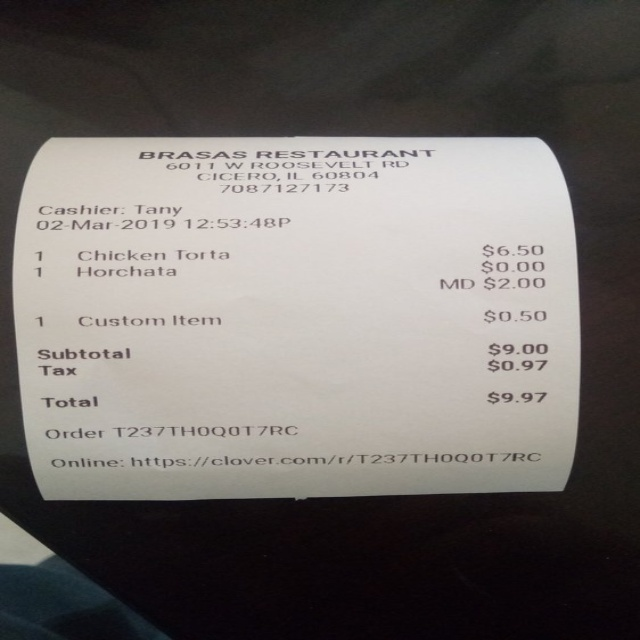invoice_table: (35, 241, 545, 326)
invoice_title: (136, 149, 435, 194)
invoice_total: (41, 390, 548, 411)
